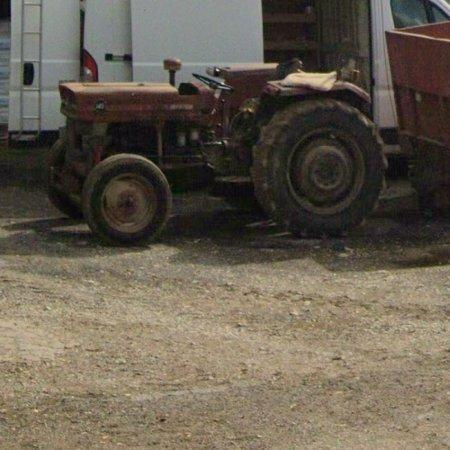tractors: (49, 59, 387, 243)
